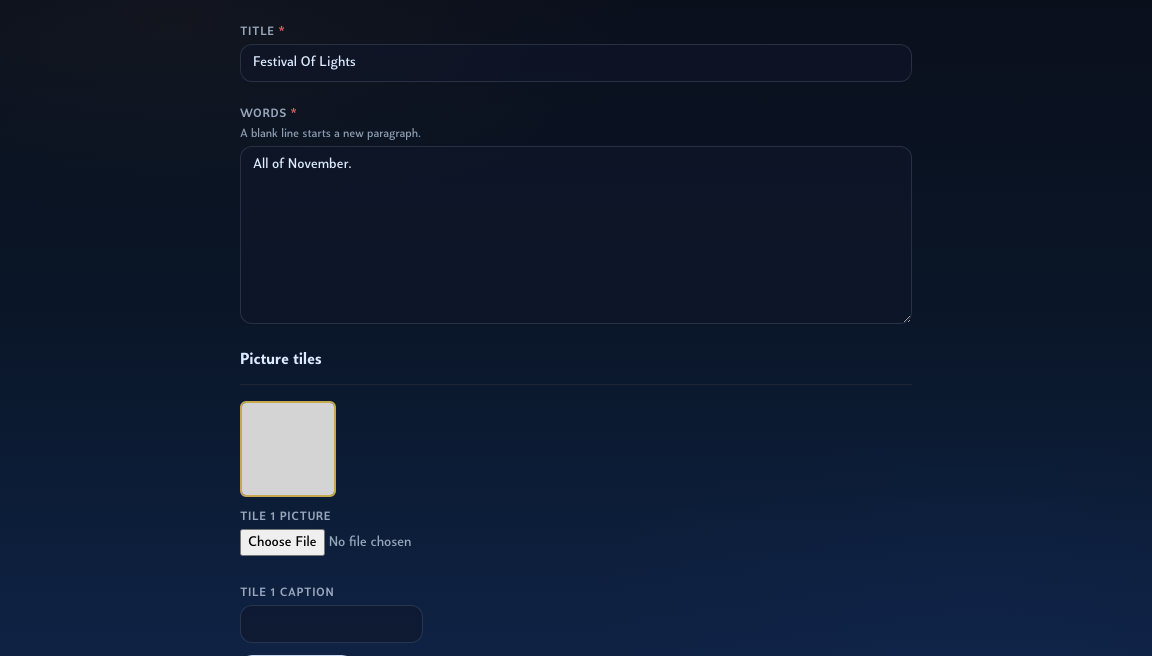
Test: NewsDeskPage › uploads a tile picture at the desk and schedules the event with it
Earlier steps of the test are not shown.
(page scrolled)
Type "Limited Edition Tack" into the field labelled "Tile 1 caption".
click(332, 624); type("Limited Edition Tack")  # box [240,605,423,643]
(page scrolled)
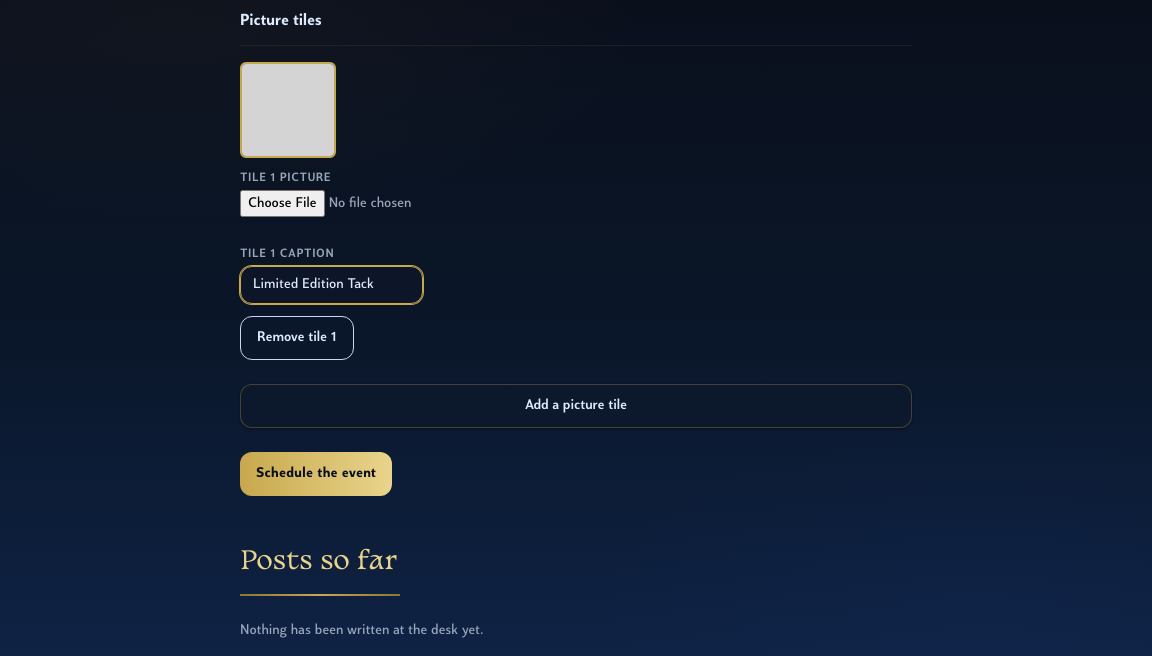
Click the button "Schedule the event".
click(316, 474)  # box [240,452,392,496]
(page scrolled)
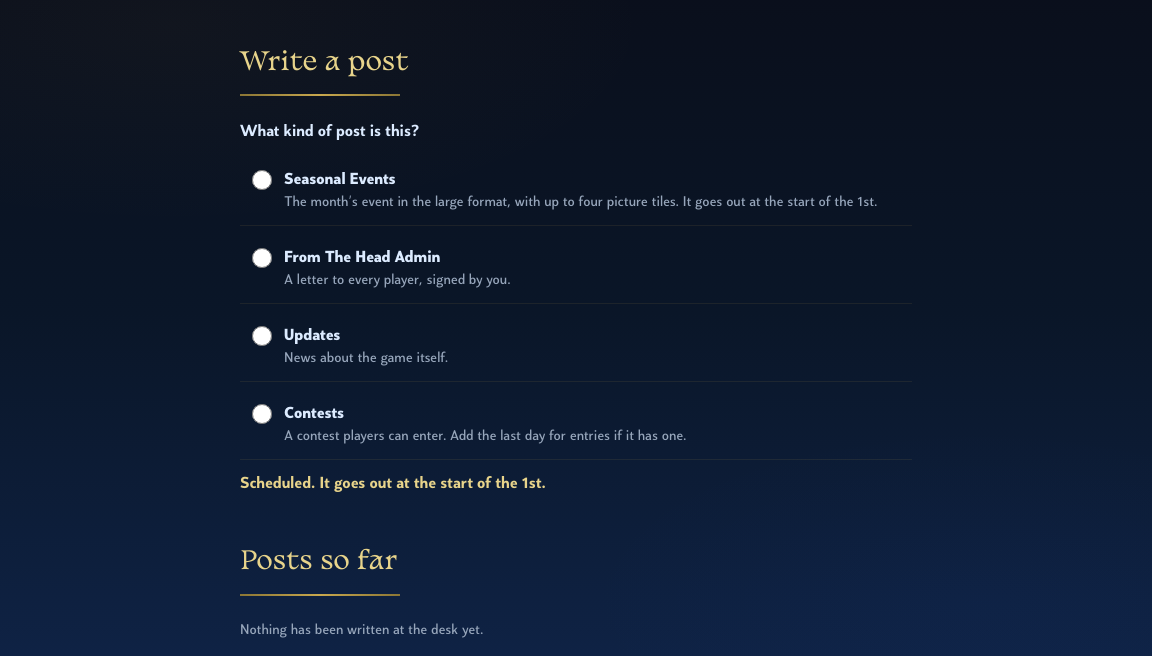
Check: the text "Scheduled. It goes out at the start of the 1st." is shown, box [240,476,546,492]
